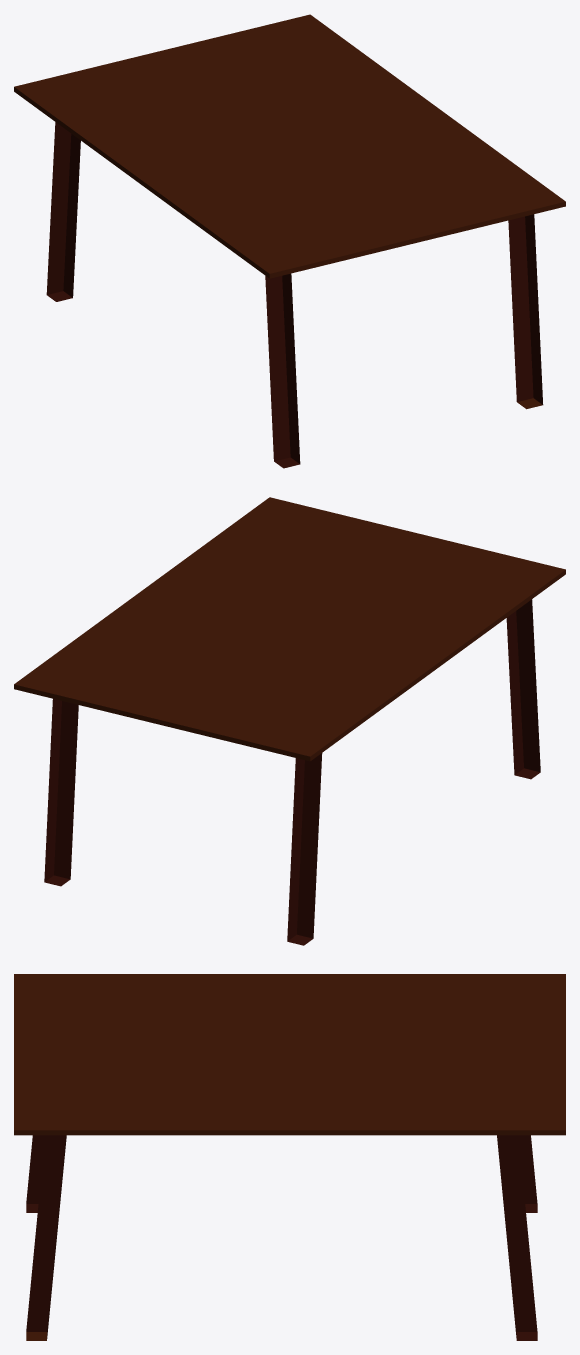
Rendered from table.fbx.
The picture shows the model from 3 angles, top to bottom: view 1: azimuth 30°, elevation 25°; view 2: azimuth 150°, elevation 25°; view 3: azimuth 270°, elevation 25°; orthographic projection. The views are drawn at different scales.
Visible parts, largest first — view 1: Cube; view 2: Cube; view 3: Cube.
Boxes of the visible parts, box(x1,y1,x2,y2) form: Cube: box(14, 14, 565, 468); Cube: box(14, 497, 565, 945); Cube: box(14, 974, 565, 1340).
Bounding box in the file's own units: 402 × 264 × 601.
